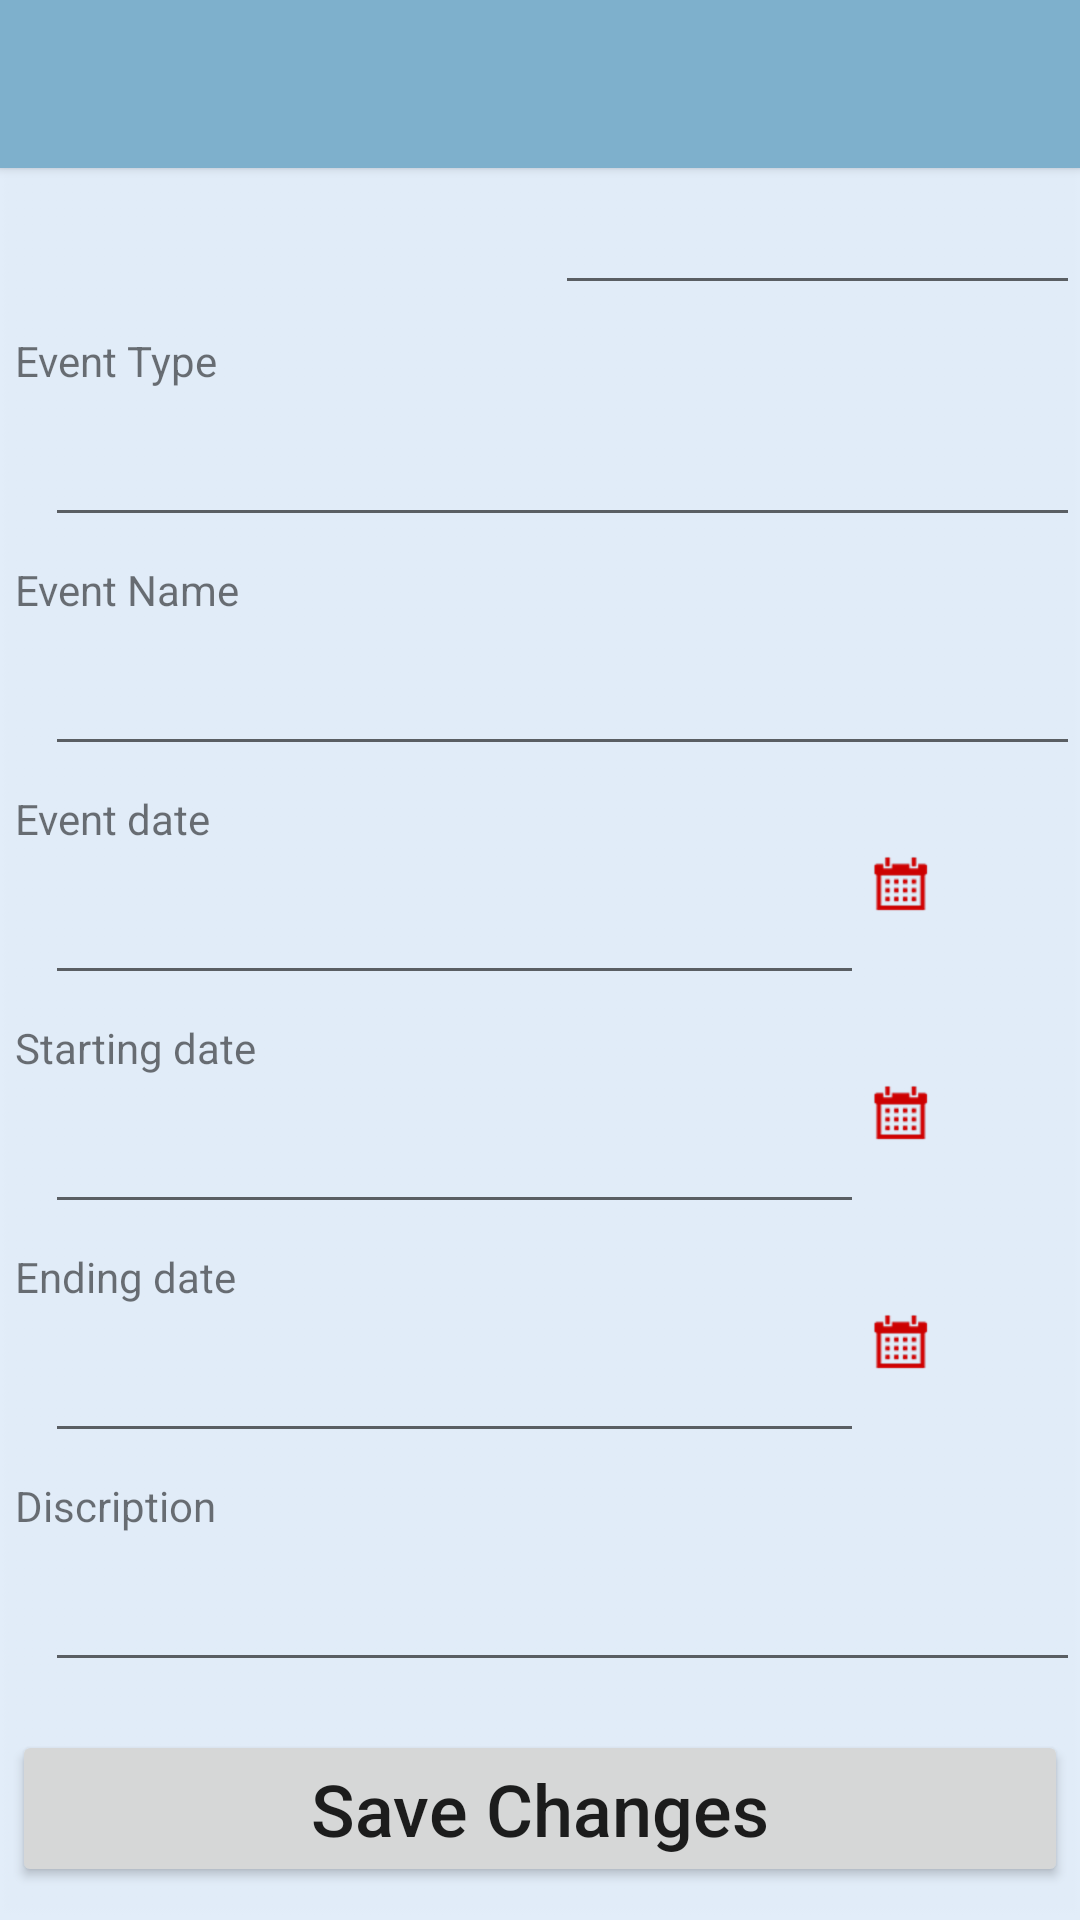

Screen size 1080 × 1920. Icon name, then its center in pixels as point (x, y):
events: point (901, 884), point (901, 1113), point (901, 1342)
